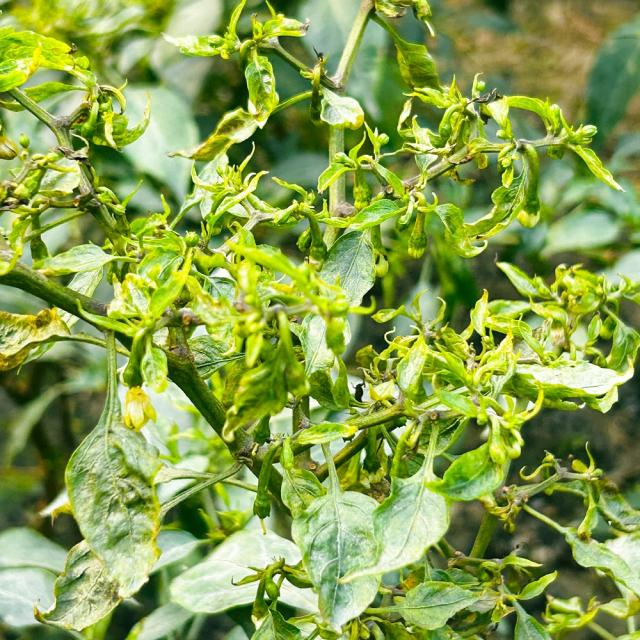Chilli_Leaf_Curl: (1, 0, 638, 638)
